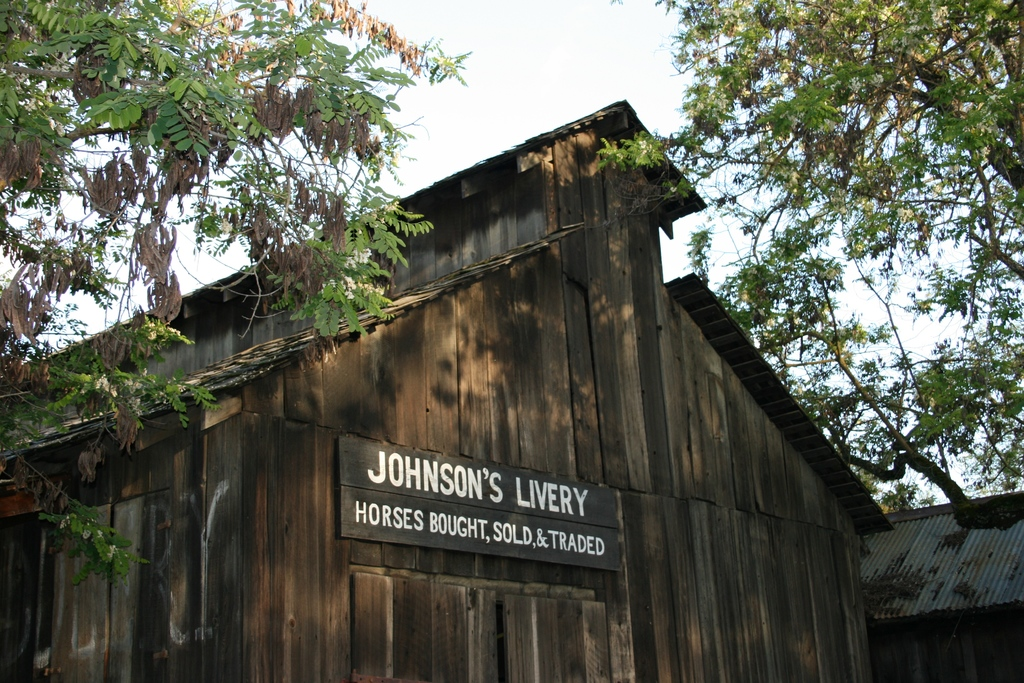Tree: (0, 0, 471, 598), (595, 0, 1023, 506)
